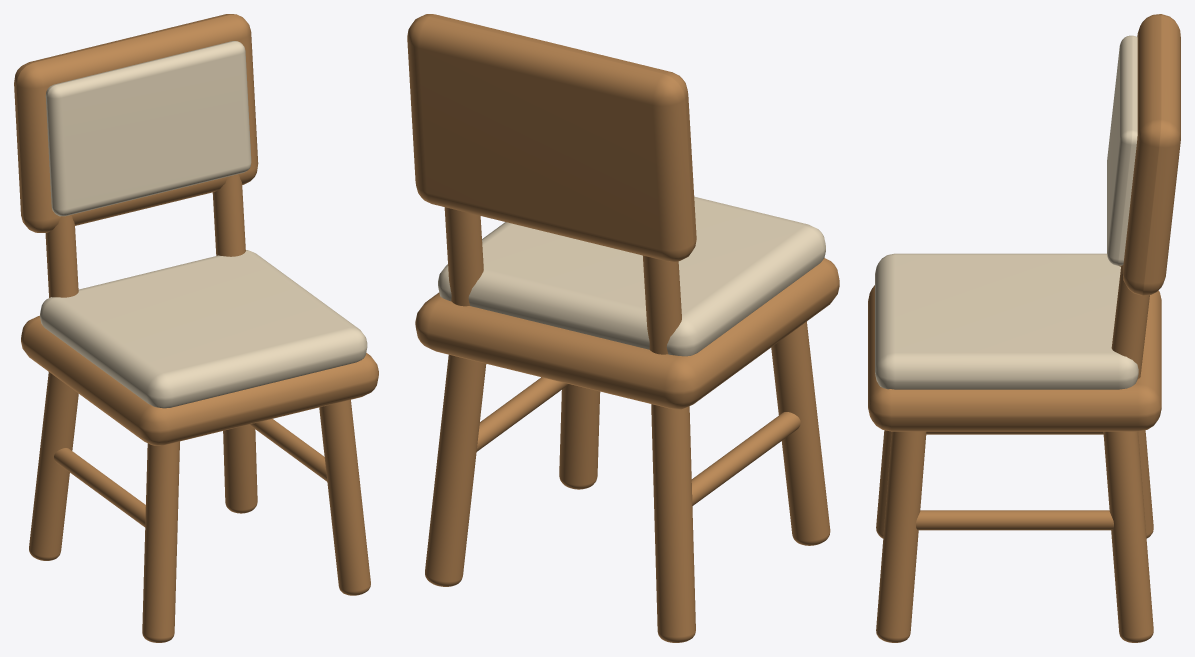
File: chair-cream.glb
3 renders of one model, left to right at view 1: azimuth 30°, elevation 25°; view 2: azimuth 150°, elevation 25°; view 3: azimuth 270°, elevation 25°, orthographic. The views are drawn at different scales.
Visible parts, largest first — view 1: chair-cream; view 2: chair-cream; view 3: chair-cream.
Part boxes in pixels (x1=…): chair-cream: x1=14, y1=14, x2=378, y2=642; chair-cream: x1=407, y1=14, x2=839, y2=642; chair-cream: x1=868, y1=14, x2=1180, y2=642.
Bounding box in the file's own units: 0.44 × 0.8608 × 0.4686.
